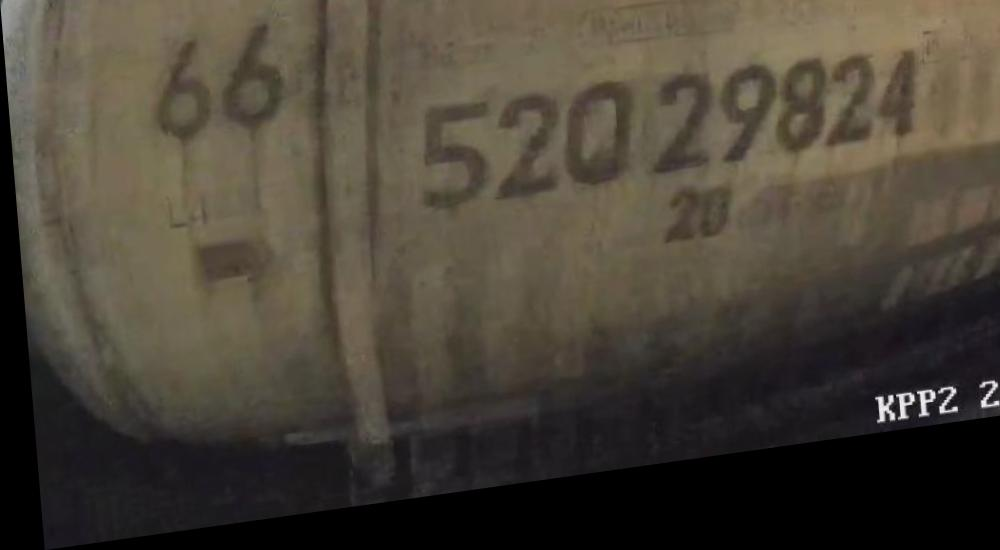Wagon-number: (407, 57, 926, 232)
